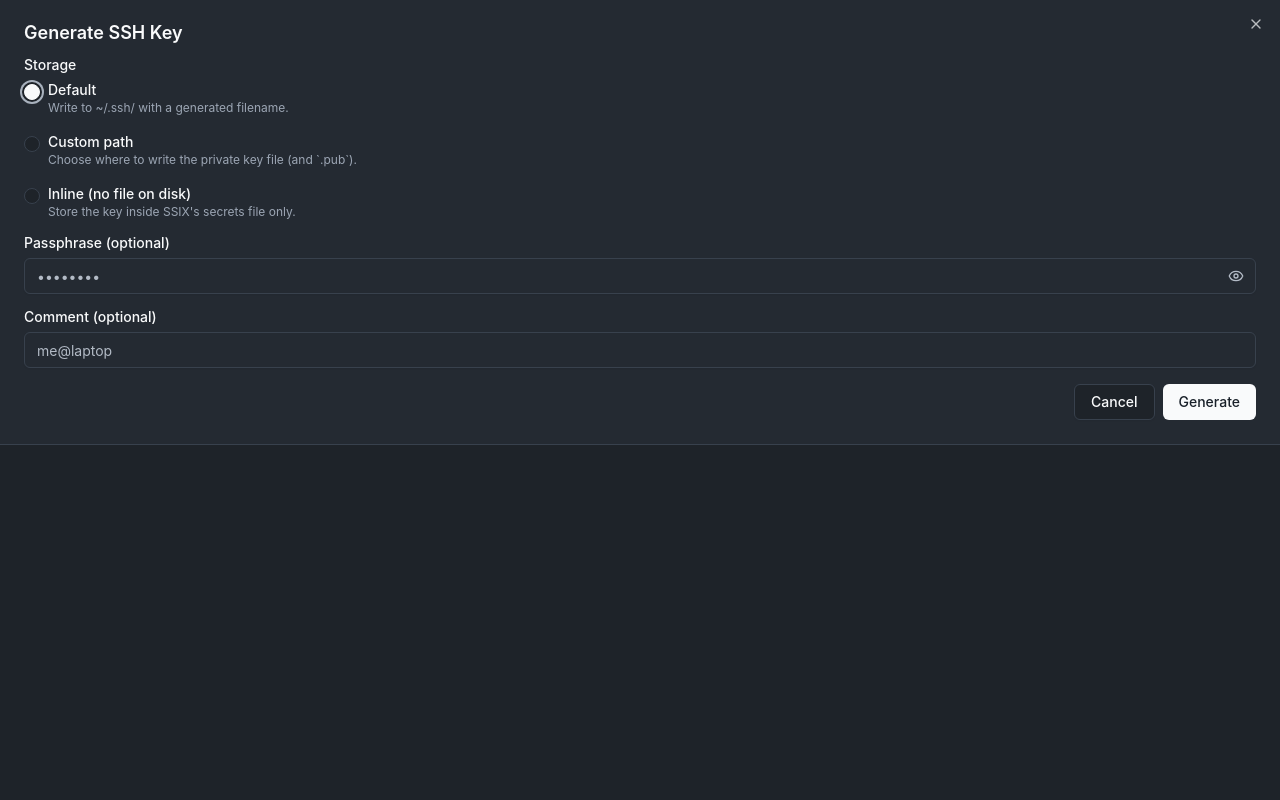
Test: GenerateKeyDialog › surfaces submit errors via role=alert + aria-live=assertive
This screenshot has width=1280, height=800.
Click the button "Generate": (1209, 402) [1162,384,1256,420]
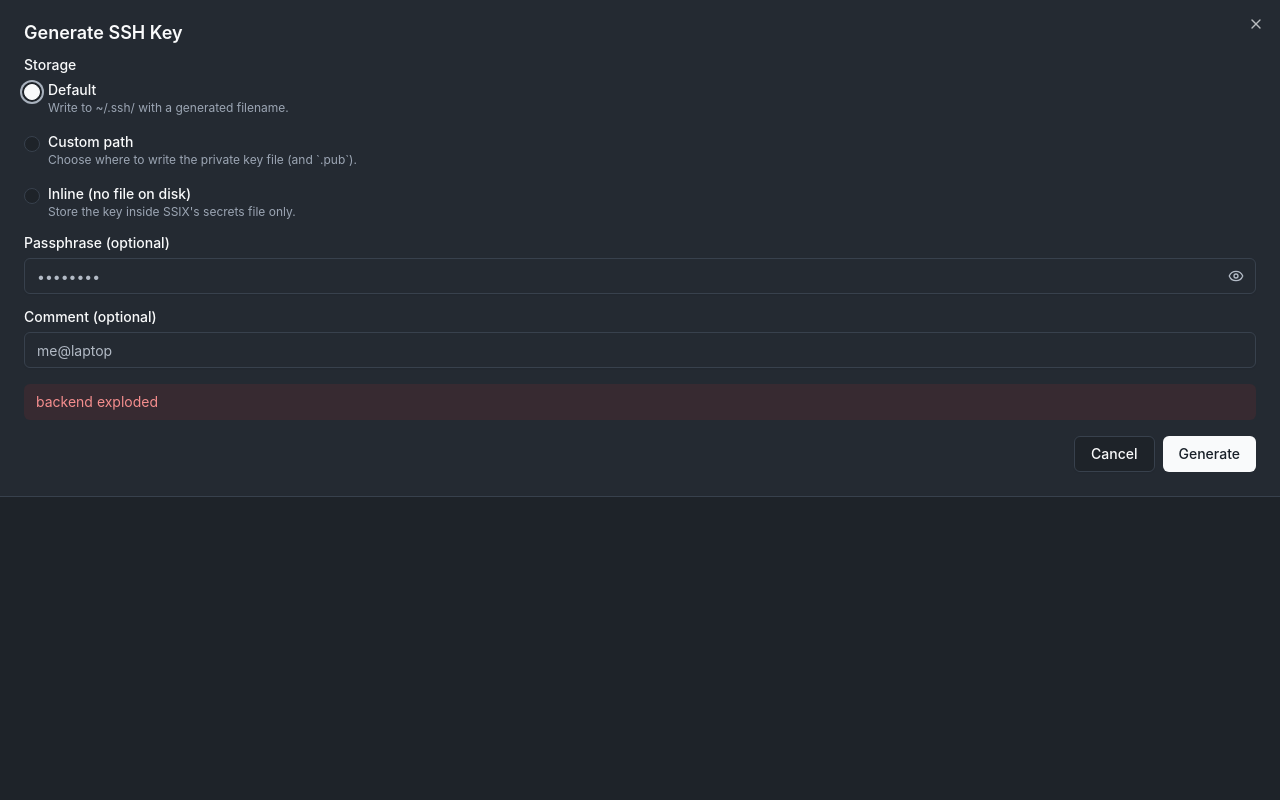
Expected: the message reads "backend exploded", [36,393,158,410]
